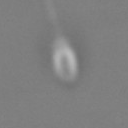normal: (38, 1, 65, 46)
